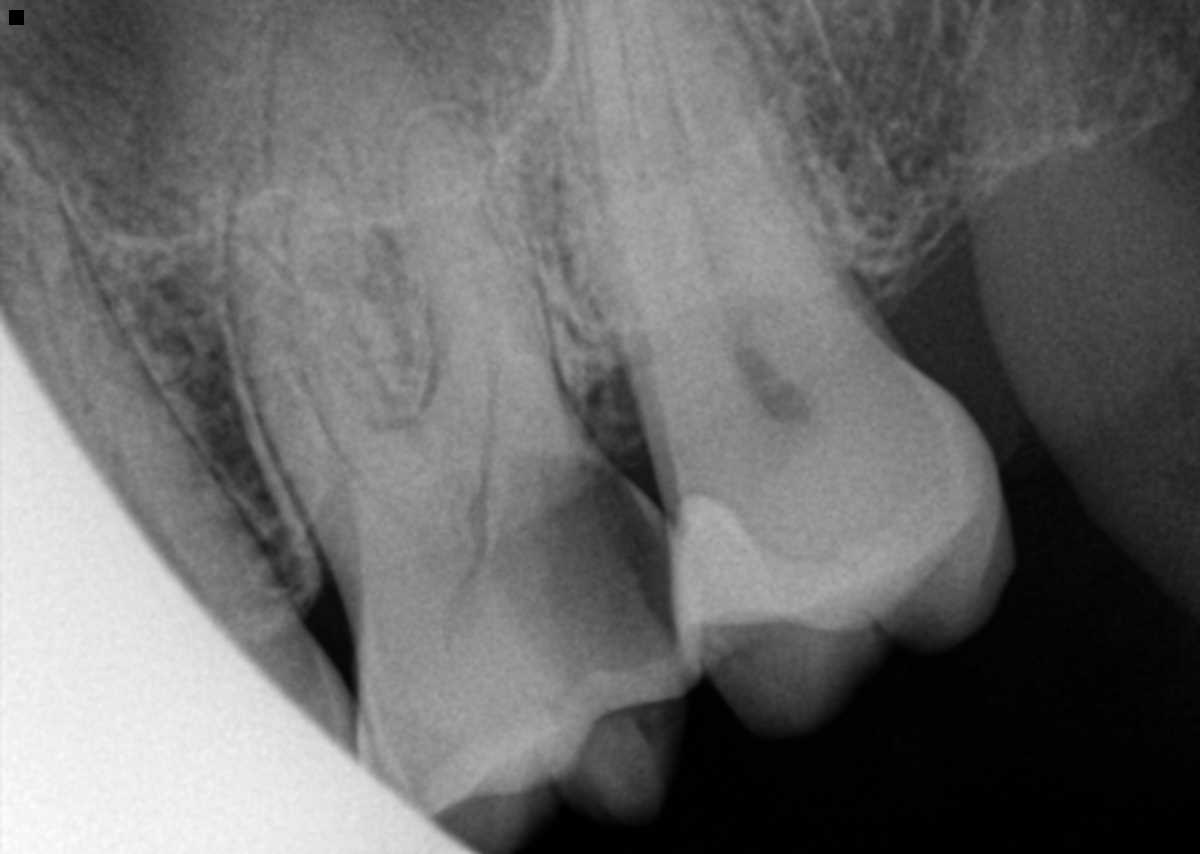Distal Canal: (471, 240, 497, 445)
Distal Root: (399, 100, 573, 437)
Main Root: (0, 120, 289, 597), (575, 0, 826, 382)
Mesial Canal: (292, 311, 408, 519)
Mesial Root: (223, 137, 428, 531)
Palatal Root: (268, 0, 580, 528)
decay: (492, 446, 679, 683)
